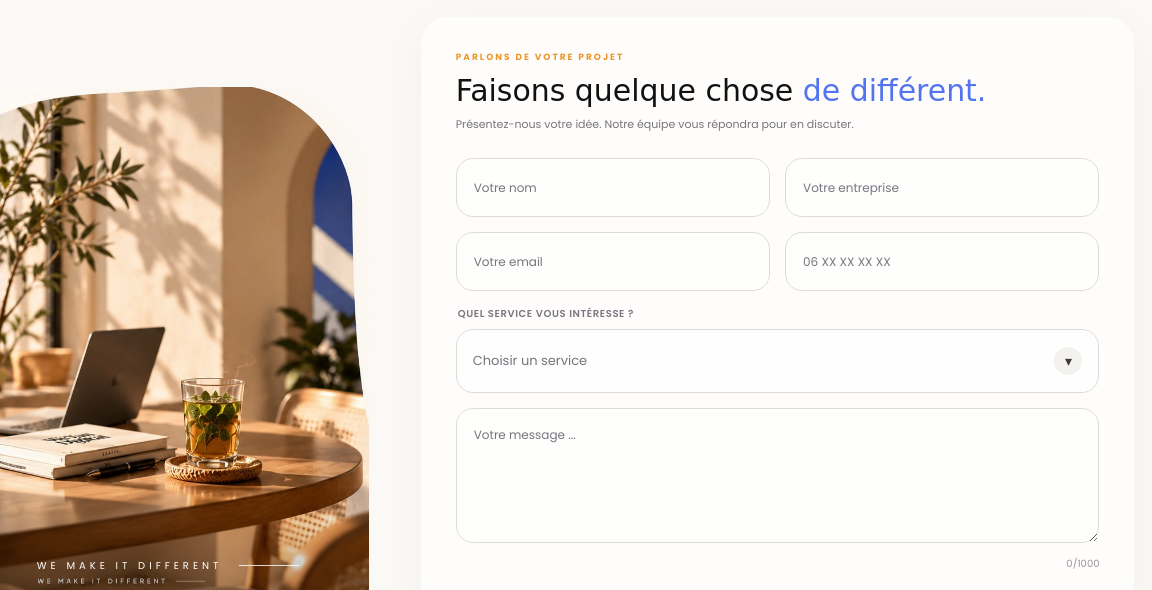
Test: ContactPage › affiche l’erreur renvoyée par l’API
Type "Sara" into the field with placeholder "Votre nom". click: (613, 188)
box: [456,158,770,217]
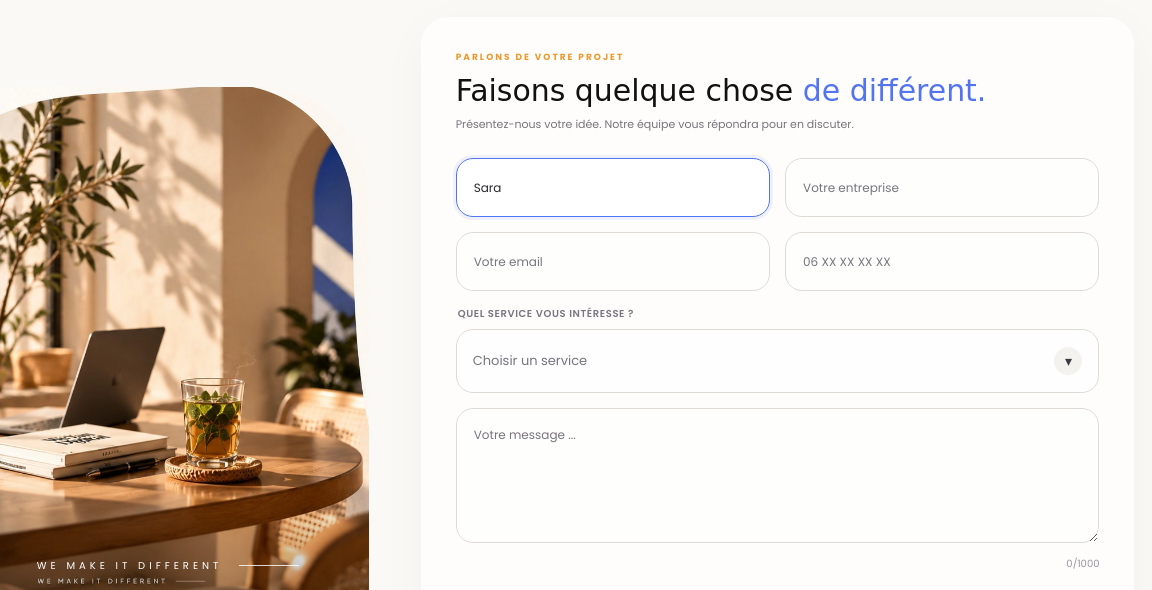
Type "x@y.z" into the field with placeholder "Votre email". click: (613, 262)
box: [456,232,770,291]
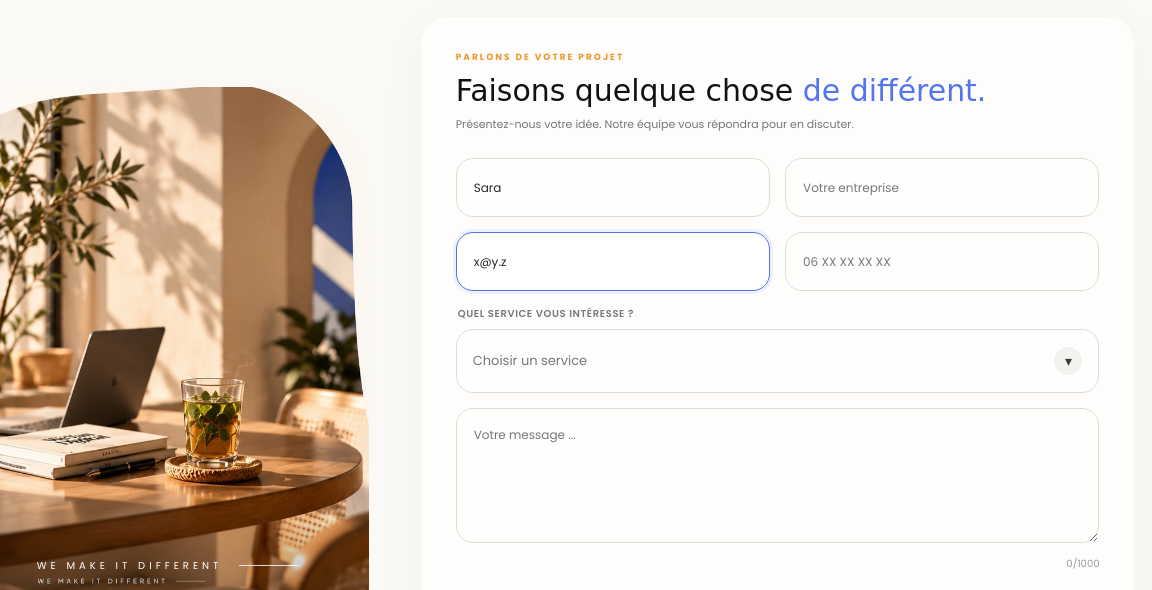
Type "Salut" into the text box with placeholder "Votre message ...". click: (778, 476)
box: [456,408,1099,543]
(page scrolled)
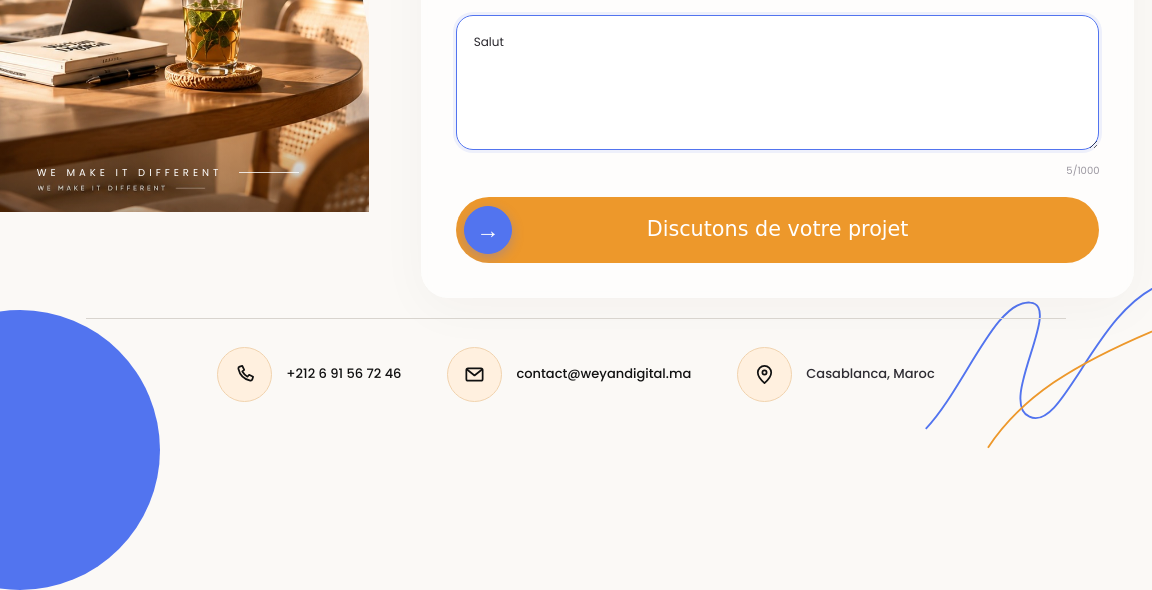
Press Enter in the button named "glisser vers la droite", box [464,206,512,254]
(page scrolled)
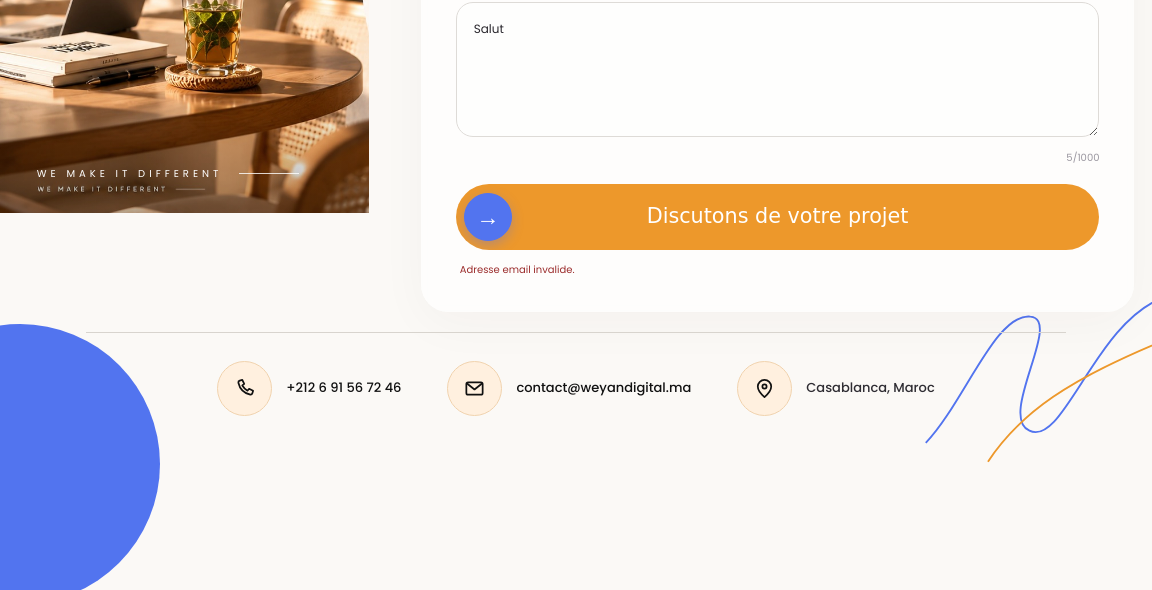
Result: the message reads "Adresse email invalide." at [460,262,574,277]
